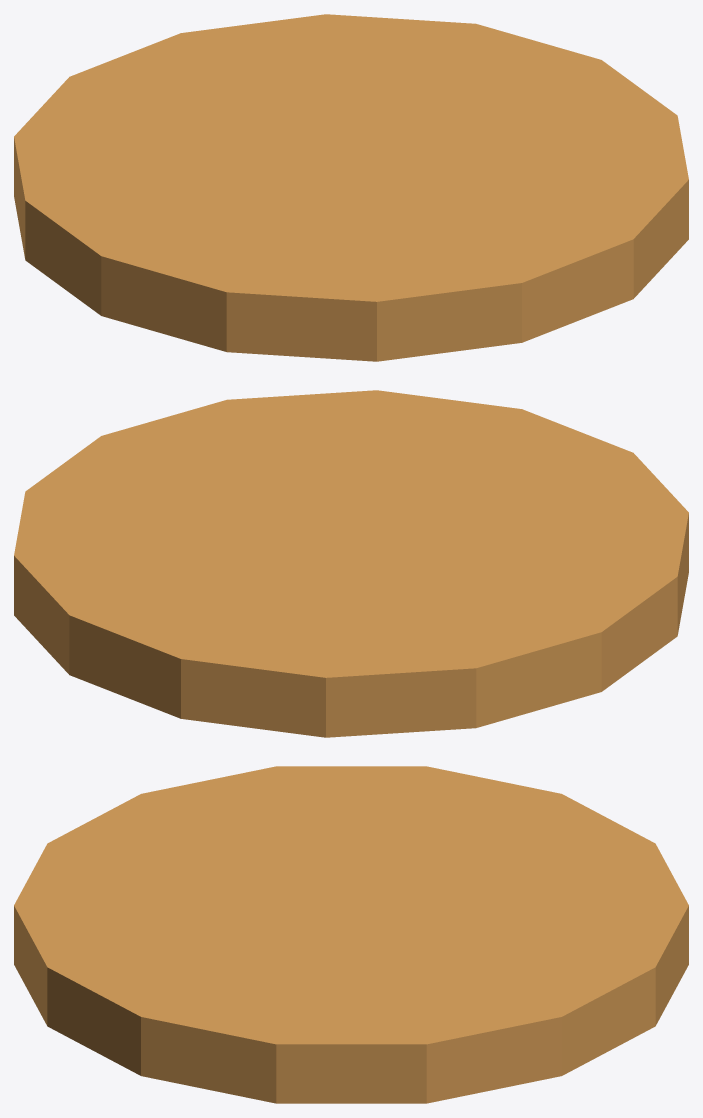
The model's file is bowl_food.glb.
The picture shows the model from 3 angles, top to bottom: view 1: azimuth 30°, elevation 25°; view 2: azimuth 150°, elevation 25°; view 3: azimuth 270°, elevation 25°; orthographic projection.
Visible parts, largest first — view 1: BowlFood; view 2: BowlFood; view 3: BowlFood.
Part boxes in pixels (x1,y1,x2,y2): BowlFood: (14,14,688,361); BowlFood: (14,390,688,737); BowlFood: (14,766,688,1103).
Size of the model in its own units: 0.1209 by 0.012 by 0.124.
